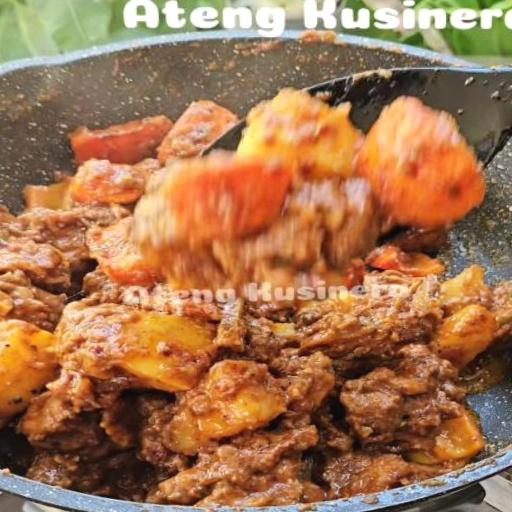pork caldereta: (0, 107, 511, 501)
